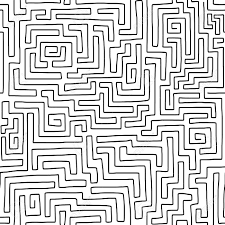maze: (1, 1, 224, 224)
